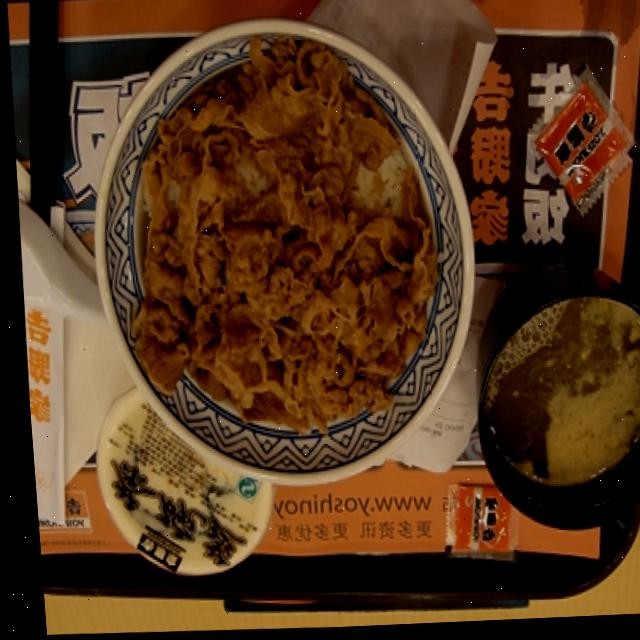汤锅炖物: (453, 260, 640, 551)
